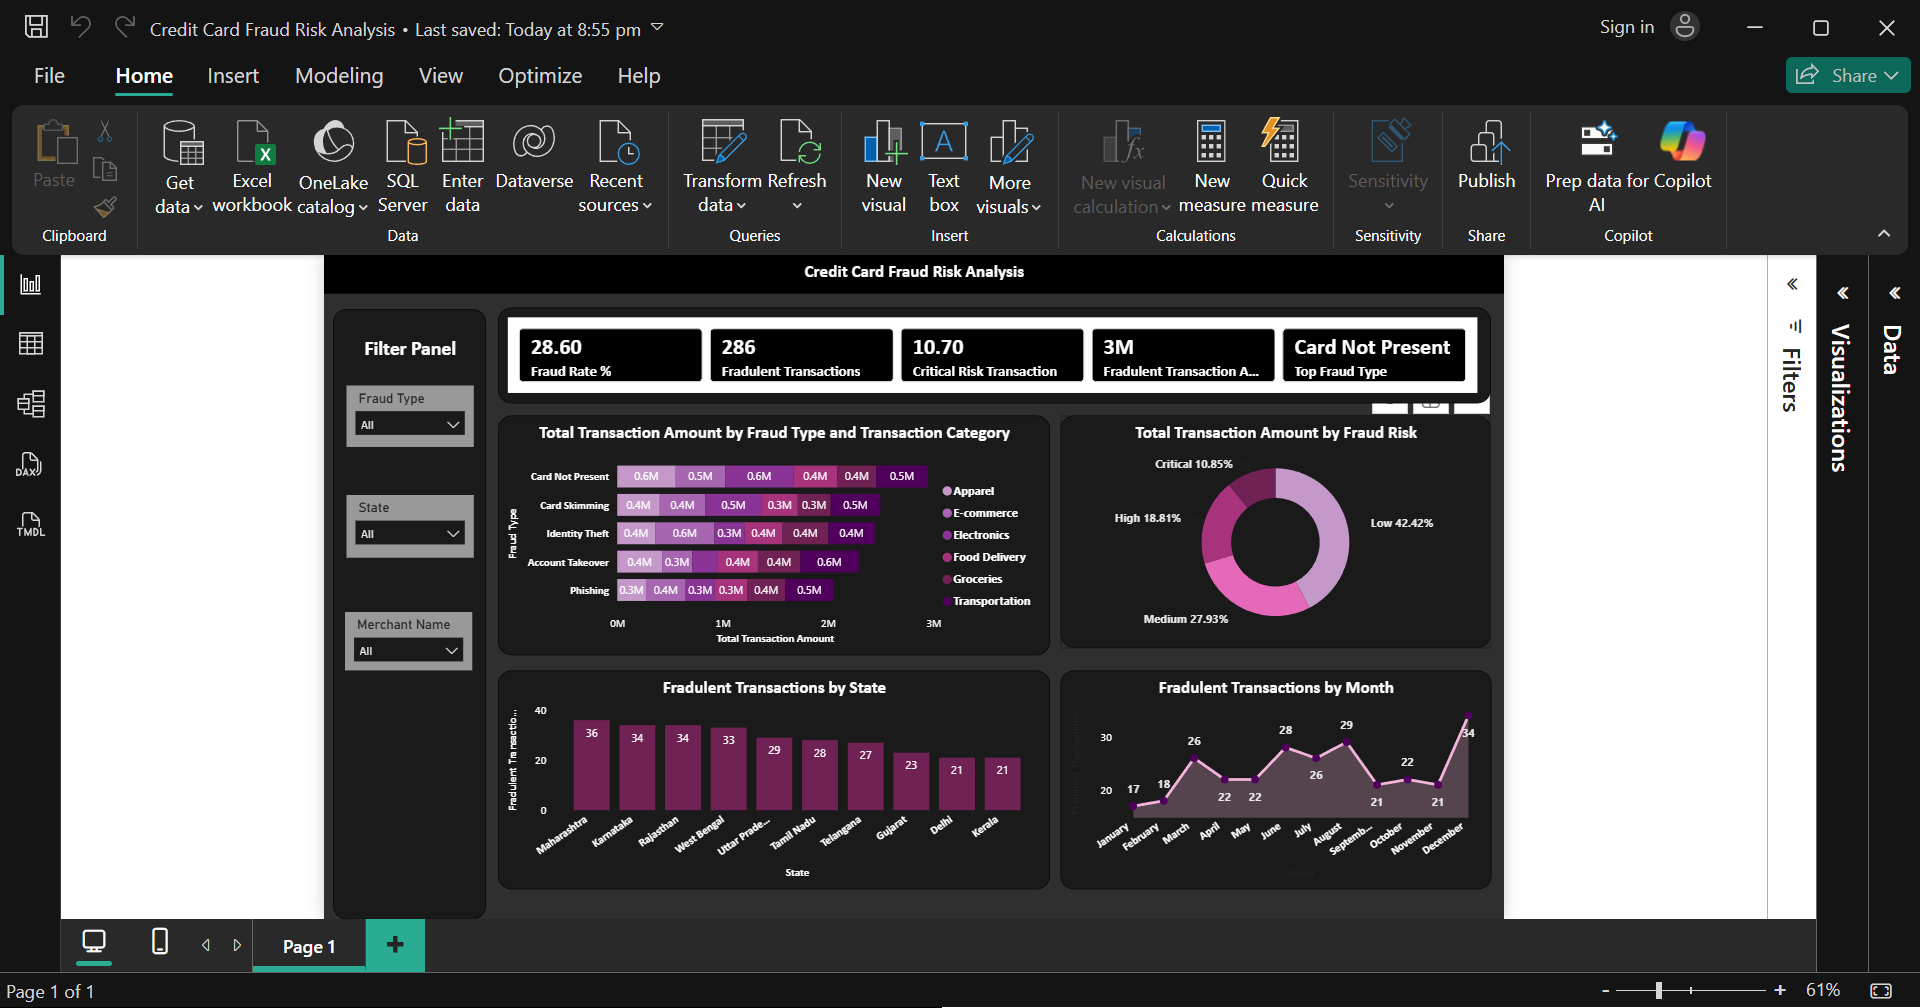

The dashboard page shown, as its layout file describes it:
{"tool":"powerbi","page":{"name":"Page 1","canvas":[1280,720],"ordinal":0},"visuals":[{"type":"textbox","box":[0,0,1280.1,42.3],"z":0},{"type":"shape","box":[9.8,58.6,165.9,662],"z":1},{"type":"textbox","box":[24.4,83,138.3,40.7],"z":2},{"type":"barChart","fields":{"Y":["Credit Card Fraud Risk Analysis.Total Transaction Amount"],"Category":["Credit Card Fraud Risk Analysis.Fraud Type"],"Series":["Credit Card Fraud Risk Analysis.Transaction Category"]},"box":[188.7,174,598.6,260.2],"z":3},{"type":"donutChart","fields":{"Y":["Credit Card Fraud Risk Analysis.Total Transaction Amount"],"Category":["Credit Card Fraud Risk Analysis.Fraud Risk"]},"box":[798.6,174,466.8,252.1],"z":4},{"type":"columnChart","fields":{"Y":["Credit Card Fraud Risk Analysis.Fradulent Transactions"],"Category":["Credit Card Fraud Risk Analysis.State"]},"box":[188.7,450.6,598.6,237.5],"z":5},{"type":"lineChart","fields":{"Y":["Credit Card Fraud Risk Analysis.Fradulent Transactions"],"Category":["Credit Card Fraud Risk Analysis.Transaction Date.Variation.Date Hierarchy.Month"]},"box":[799,451,467,237],"z":6},{"type":"slicer","fields":{"Values":["Credit Card Fraud Risk Analysis.Fraud Type"]},"box":[24.4,141.5,138.3,66.7],"z":7},{"type":"slicer","fields":{"Values":["Credit Card Fraud Risk Analysis.State"]},"box":[24.4,260.2,138.3,68.3],"z":8},{"type":"slicer","fields":{"Values":["Credit Card Fraud Risk Analysis.Merchant Name"]},"box":[22.8,387.1,138.3,63.4],"z":9},{"type":"cardVisual","fields":{"Data":["Credit Card Fraud Risk Analysis.Fraud Rate %","Credit Card Fraud Risk Analysis.Fradulent Transactions","Credit Card Fraud Risk Analysis.Critical Risk Transaction","Credit Card Fraud Risk Analysis.Fradulent Transaction Amount","Credit Card Fraud Risk Analysis.Top Fraud Type"]},"box":[188.7,56.9,1076.8,104.1],"z":10}]}

Visuals, with their boxes on the page's 1280x720 design canvas (x1, y1, x2, y2). These are canvas units, not pixel positions in the 1920x1008 screenshot, which may show the page scaled, cropped or inside an application window:
textbox: {"left": 0, "top": 0, "right": 1280, "bottom": 42}
shape: {"left": 10, "top": 59, "right": 176, "bottom": 721}
textbox: {"left": 24, "top": 83, "right": 163, "bottom": 124}
barChart - Credit Card Fraud Risk Analysis.Total Transaction Amount x Credit Card Fraud Risk Analysis.Fraud Type: {"left": 189, "top": 174, "right": 787, "bottom": 434}
donutChart - Credit Card Fraud Risk Analysis.Total Transaction Amount x Credit Card Fraud Risk Analysis.Fraud Risk: {"left": 799, "top": 174, "right": 1265, "bottom": 426}
columnChart - Credit Card Fraud Risk Analysis.Fradulent Transactions x Credit Card Fraud Risk Analysis.State: {"left": 189, "top": 451, "right": 787, "bottom": 688}
lineChart - Credit Card Fraud Risk Analysis.Fradulent Transactions x Credit Card Fraud Risk Analysis.Transaction Date.Variation.Date Hierarchy.Month: {"left": 799, "top": 451, "right": 1266, "bottom": 688}
slicer - Credit Card Fraud Risk Analysis.Fraud Type: {"left": 24, "top": 142, "right": 163, "bottom": 208}
slicer - Credit Card Fraud Risk Analysis.State: {"left": 24, "top": 260, "right": 163, "bottom": 328}
slicer - Credit Card Fraud Risk Analysis.Merchant Name: {"left": 23, "top": 387, "right": 161, "bottom": 450}
cardVisual - Credit Card Fraud Risk Analysis.Fraud Rate % x Credit Card Fraud Risk Analysis.Fradulent Transactions: {"left": 189, "top": 57, "right": 1266, "bottom": 161}
